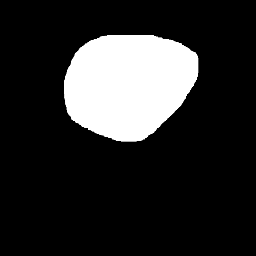mass: (65, 35, 201, 140)
